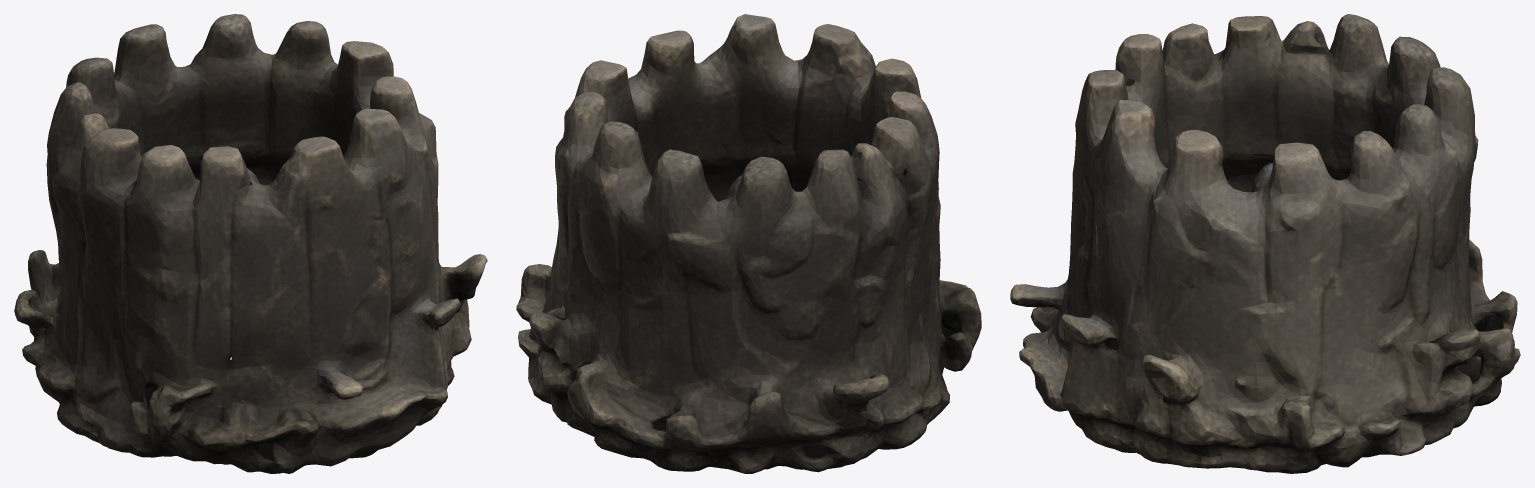
The picture shows the model from 3 angles, left to right: view 1: azimuth 30°, elevation 25°; view 2: azimuth 150°, elevation 25°; view 3: azimuth 270°, elevation 25°; orthographic projection. The views are drawn at different scales.
Visible parts, largest first — view 1: world; view 2: world; view 3: world.
Part boxes in pixels (x1,y1,x2,y2): world: [14, 14, 487, 473]; world: [516, 14, 981, 473]; world: [1010, 14, 1520, 473].
Size of the model in its own units: 0.7387 by 0.5722 by 0.7981.
1 material, 1 textured.
